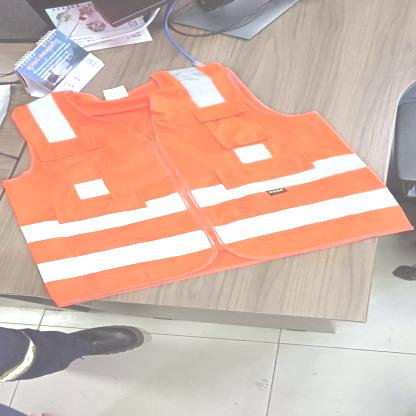colete: (3, 60, 416, 308)
